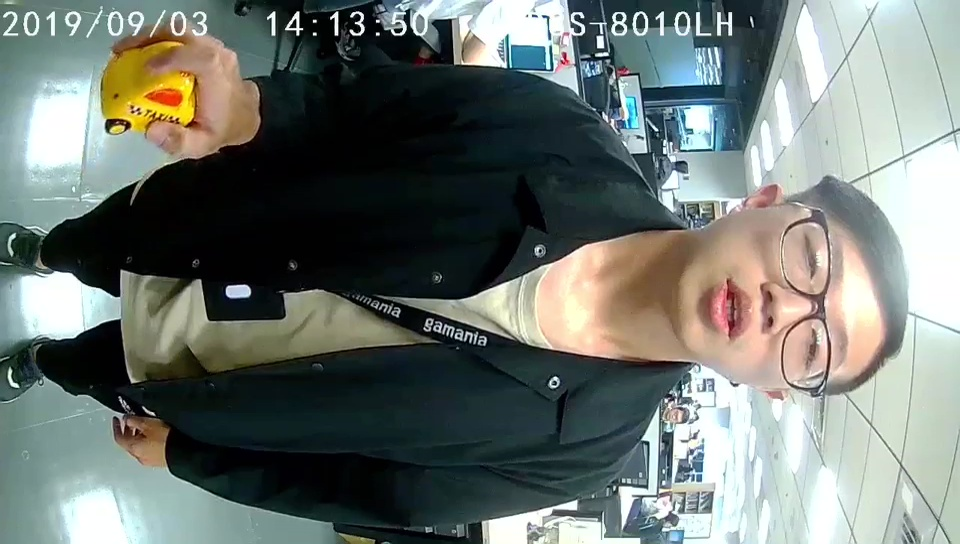car: (102, 43, 189, 131)
